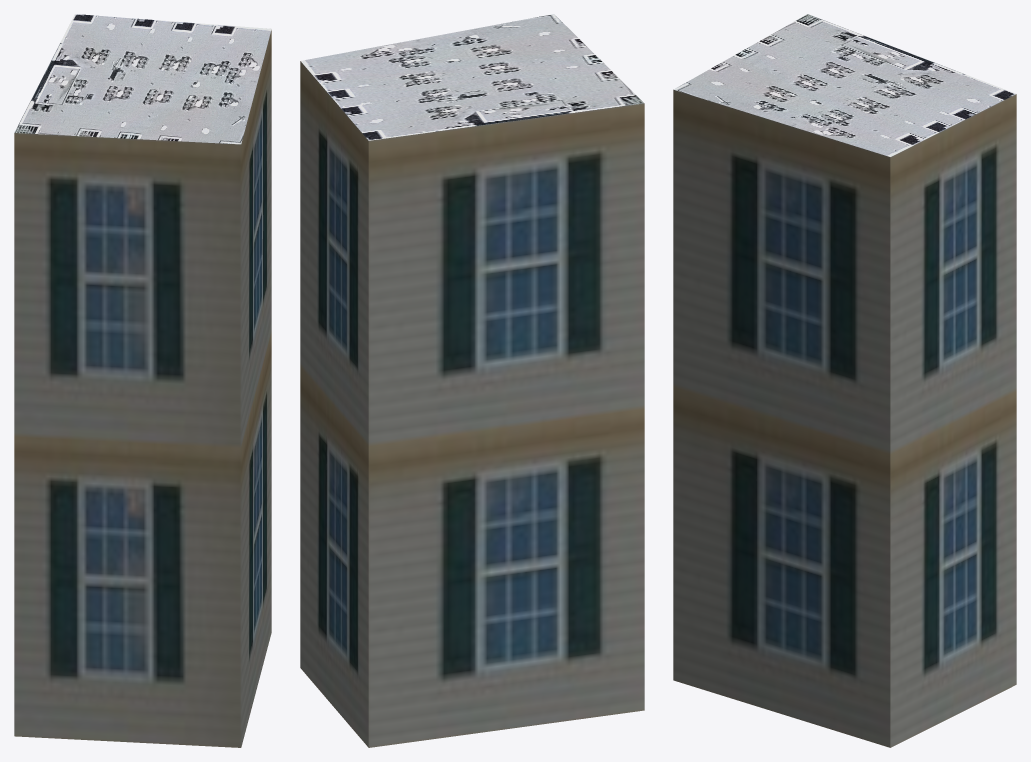
The model's file is ResTex__4372.fbx.
3 renders of one model, left to right at view 1: azimuth 30°, elevation 25°; view 2: azimuth 150°, elevation 25°; view 3: azimuth 270°, elevation 25°, orthographic. The views are drawn at different scales.
Visible parts, largest first — view 1: CityEngineMaterial_7_m, CityEngineMaterial_m; view 2: CityEngineMaterial_7_m, CityEngineMaterial_m; view 3: CityEngineMaterial_7_m, CityEngineMaterial_m.
Boxes of the visible parts, bbox=[...] form: CityEngineMaterial_7_m: bbox=[14, 30, 271, 747]; CityEngineMaterial_m: bbox=[14, 14, 271, 144]; CityEngineMaterial_7_m: bbox=[300, 61, 644, 747]; CityEngineMaterial_m: bbox=[301, 14, 643, 140]; CityEngineMaterial_7_m: bbox=[673, 89, 1016, 747]; CityEngineMaterial_m: bbox=[674, 14, 1015, 156].
Size of the model in its own units: 3.12 by 6 by 3.16.
2 materials, 2 textured.
